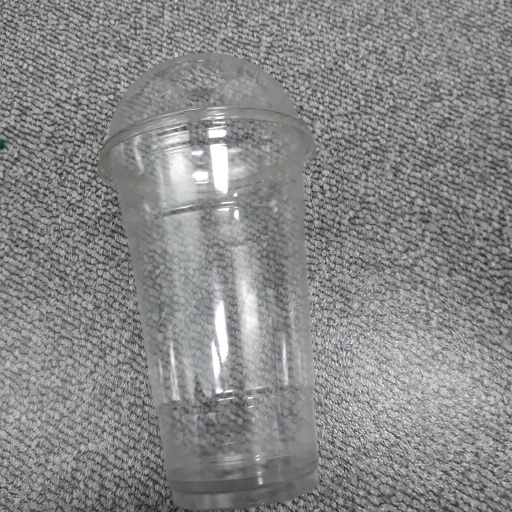Plastic_2: (96, 51, 324, 512)
